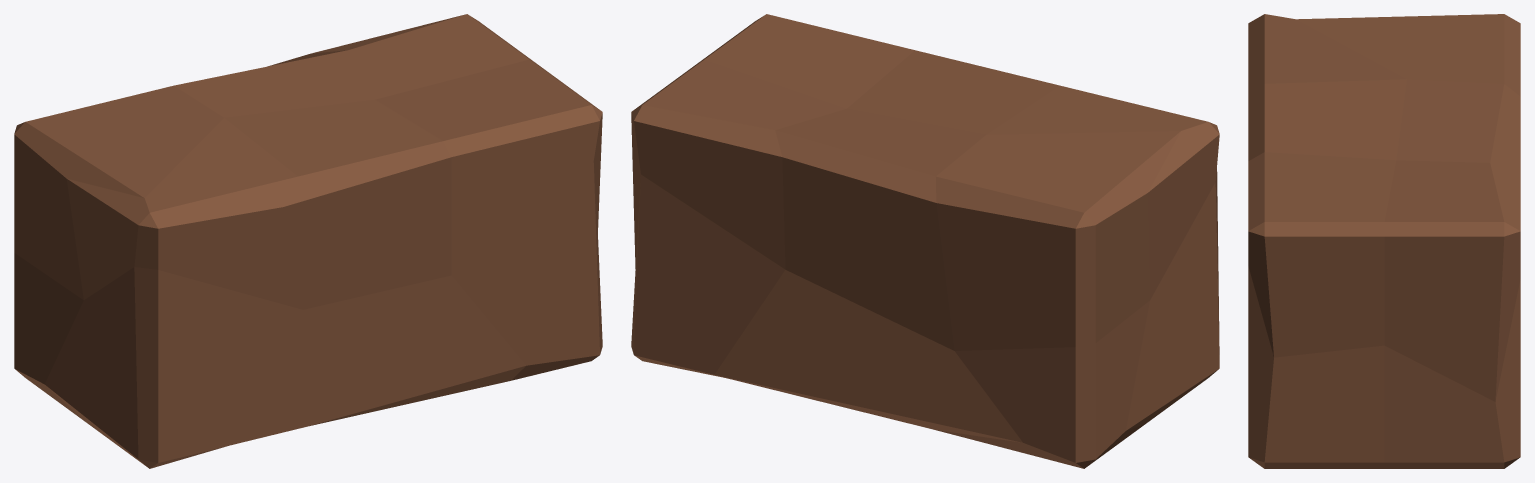
File: SM_Env_Quarry_Brick_01.glb
3 views of the same model, side by side, from view 1: azimuth 30°, elevation 25°; view 2: azimuth 150°, elevation 25°; view 3: azimuth 270°, elevation 25° (orthographic). The views are drawn at different scales.
Parts seen in each view (by area): view 1: SM_Env_Quarry_Brick_01; view 2: SM_Env_Quarry_Brick_01; view 3: SM_Env_Quarry_Brick_01.
Part boxes in pixels (x1,y1,x2,y2): SM_Env_Quarry_Brick_01: (14,14,602,468); SM_Env_Quarry_Brick_01: (631,14,1219,468); SM_Env_Quarry_Brick_01: (1248,14,1520,468).
Size of the model in its own units: 4.02 by 2.22 by 2.12.
1 material, 1 textured.
